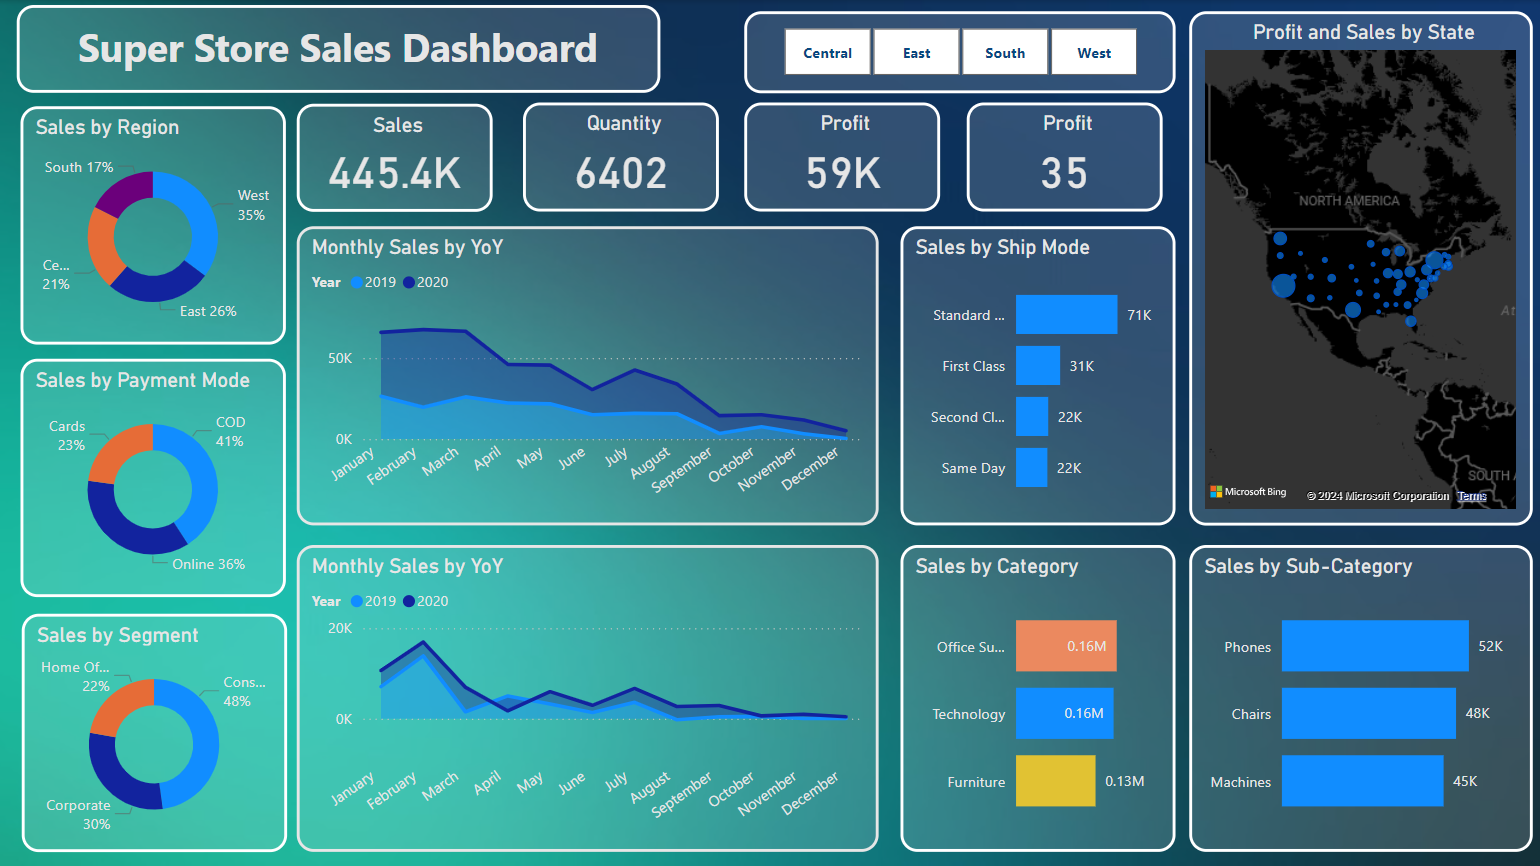

The dashboard page shown, as its layout file describes it:
{"tool":"powerbi","page":{"name":"Page 1","canvas":[1280,720],"ordinal":0},"visuals":[{"type":"clusteredBarChart","title":"Sales by Category","fields":{"Category":["SuperStore_Sales_Dataset.Category"],"Y":["Sum(SuperStore_Sales_Dataset.Sales)"]},"box":[747.7,452.3,227.9,254.7],"z":0},{"type":"clusteredBarChart","title":"Sales by Sub-Category","fields":{"Category":["SuperStore_Sales_Dataset.Sub-Category"],"Y":["Sum(SuperStore_Sales_Dataset.Sales)"]},"box":[987.2,452.3,284.9,254.7],"z":1000},{"type":"clusteredBarChart","title":"Sales by Ship Mode","fields":{"Y":["Sum(SuperStore_Sales_Dataset.Sales)"],"Category":["SuperStore_Sales_Dataset.Ship Mode"]},"box":[747.7,187.2,227.9,247.7],"z":2000},{"type":"stackedAreaChart","title":"Monthly Sales by YoY","fields":{"Y":["Sum(SuperStore_Sales_Dataset.Sales)"],"Category":["SuperStore_Sales_Dataset.Order Date.Variation.Date Hierarchy.Month","SuperStore_Sales_Dataset.Order Date.Variation.Date Hierarchy.Day"],"Series":["SuperStore_Sales_Dataset.Order Date.Variation.Date Hierarchy.Year"]},"box":[247.7,187.2,482.6,247.7],"z":3000},{"type":"stackedAreaChart","title":"Monthly Sales by YoY","fields":{"Category":["SuperStore_Sales_Dataset.Order Date.Variation.Date Hierarchy.Month","SuperStore_Sales_Dataset.Order Date.Variation.Date Hierarchy.Day"],"Series":["SuperStore_Sales_Dataset.Order Date.Variation.Date Hierarchy.Year"],"Y":["Sum(SuperStore_Sales_Dataset.Profit)"]},"box":[247.7,452.3,482.6,254.7],"z":4000},{"type":"map","title":"Profit and Sales by State","fields":{"Category":["SuperStore_Sales_Dataset.State"],"Size":["Sum(SuperStore_Sales_Dataset.Sales)"]},"box":[987.1,8.9,284.7,426.6],"z":5000},{"type":"donutChart","title":"Sales by Segment","fields":{"Category":["SuperStore_Sales_Dataset.Segment"],"Y":["Sum(SuperStore_Sales_Dataset.Sales)"]},"box":[19.8,509.3,219.8,197.7],"z":6000},{"type":"donutChart","title":"Sales by Payment Mode","fields":{"Y":["Sum(SuperStore_Sales_Dataset.Sales)"],"Category":["SuperStore_Sales_Dataset.Payment Mode"]},"box":[18.6,297.7,219.8,197.7],"z":7000},{"type":"slicer","fields":{"Values":["SuperStore_Sales_Dataset.Region"]},"box":[618.6,8.9,357.3,68.1],"z":8000},{"type":"textbox","box":[15.6,4.5,533.7,72.6],"z":9000},{"type":"card","title":"Sales","fields":{"Values":["Sum(SuperStore_Sales_Dataset.Sales)"]},"box":[247.7,86,162.8,89.5],"z":10000},{"type":"card","title":"Quantity","fields":{"Values":["Sum(SuperStore_Sales_Dataset.Quantity)"]},"box":[434.9,84.9,162.8,90.7],"z":11000},{"type":"card","title":"Profit","fields":{"Values":["Sum(SuperStore_Sales_Dataset.Profit)"]},"box":[618.6,84.9,162.8,90.7],"z":12000},{"type":"card","title":"Profit","fields":{"Values":["Avg(SuperStore_Sales_Dataset.Profit)"]},"box":[803.5,84.9,162.8,90.7],"z":13000},{"type":"donutChart","title":"Sales by Region","fields":{"Y":["Sum(SuperStore_Sales_Dataset.Sales)"],"Category":["SuperStore_Sales_Dataset.Region"]},"box":[18.6,88.4,219.8,197.7],"z":14000}]}

Visuals, with their boxes in screenshot pixels (x1, y1, x2, y2), scaled from the page's 1280x720 canvas onto the 1540x866 screenshot:
"Sales by Category" clusteredBarChart: (left=900, top=544, right=1174, bottom=850)
"Sales by Sub-Category" clusteredBarChart: (left=1188, top=544, right=1530, bottom=850)
"Sales by Ship Mode" clusteredBarChart: (left=900, top=225, right=1174, bottom=523)
"Monthly Sales by YoY" stackedAreaChart: (left=298, top=225, right=879, bottom=523)
"Monthly Sales by YoY" stackedAreaChart: (left=298, top=544, right=879, bottom=850)
"Profit and Sales by State" map: (left=1188, top=11, right=1530, bottom=524)
"Sales by Segment" donutChart: (left=24, top=613, right=288, bottom=850)
"Sales by Payment Mode" donutChart: (left=22, top=358, right=287, bottom=596)
slicer - SuperStore_Sales_Dataset.Region: (left=744, top=11, right=1174, bottom=93)
textbox: (left=19, top=5, right=661, bottom=93)
"Sales" card: (left=298, top=103, right=494, bottom=211)
"Quantity" card: (left=523, top=102, right=719, bottom=211)
"Profit" card: (left=744, top=102, right=940, bottom=211)
"Profit" card: (left=967, top=102, right=1163, bottom=211)
"Sales by Region" donutChart: (left=22, top=106, right=287, bottom=344)
